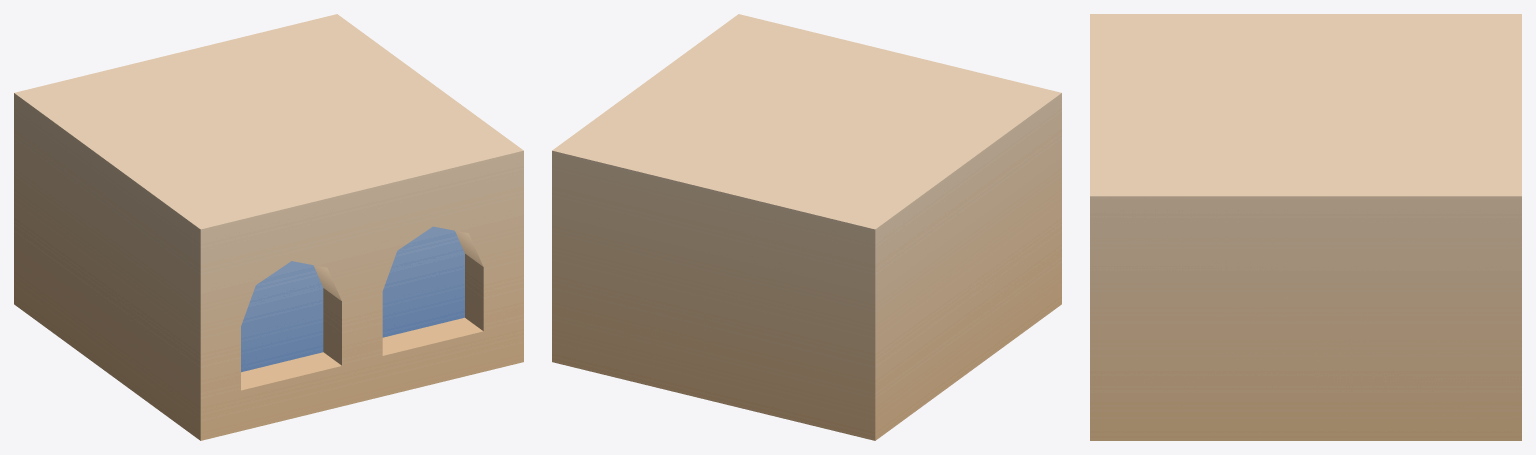
Rendered from building-windows-round.glb.
The picture shows the model from 3 angles, left to right: view 1: azimuth 30°, elevation 25°; view 2: azimuth 150°, elevation 25°; view 3: azimuth 270°, elevation 25°; orthographic projection. The views are drawn at different scales.
Parts seen in each view (by area): view 1: building-windows-round; view 2: building-windows-round; view 3: building-windows-round.
Boxes of the visible parts, x1=… form: building-windows-round: x1=14, y1=14, x2=523, y2=440; building-windows-round: x1=552, y1=14, x2=1061, y2=440; building-windows-round: x1=1090, y1=14, x2=1521, y2=440.
Size of the model in its own units: 1 by 0.625 by 1.
1 material, 1 textured.
